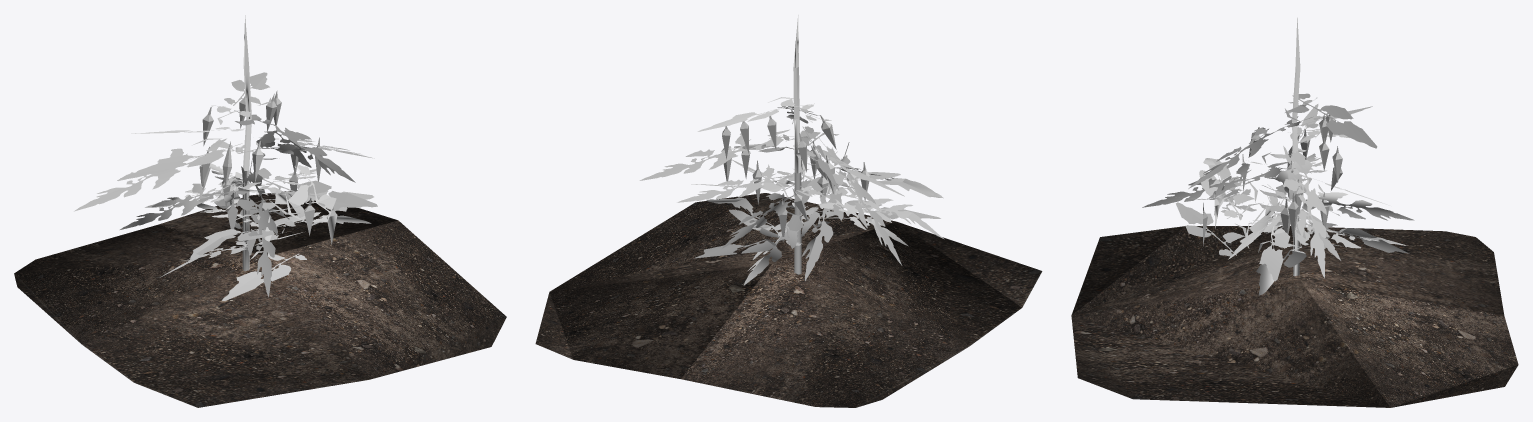
The model's file is Chilismall_lod2.fbx.
3 views of the same model, side by side, from view 1: azimuth 30°, elevation 25°; view 2: azimuth 150°, elevation 25°; view 3: azimuth 270°, elevation 25° (orthographic). The views are drawn at different scales.
Visible parts, largest first — view 1: Chilismall_lod2; view 2: Chilismall_lod2; view 3: Chilismall_lod2.
Boxes of the visible parts, x1,y1,x2,y2 form: Chilismall_lod2: [14, 15, 506, 407]; Chilismall_lod2: [535, 15, 1042, 407]; Chilismall_lod2: [1071, 17, 1518, 407].
Size of the model in its own units: 65.75 by 49.66 by 68.29.
